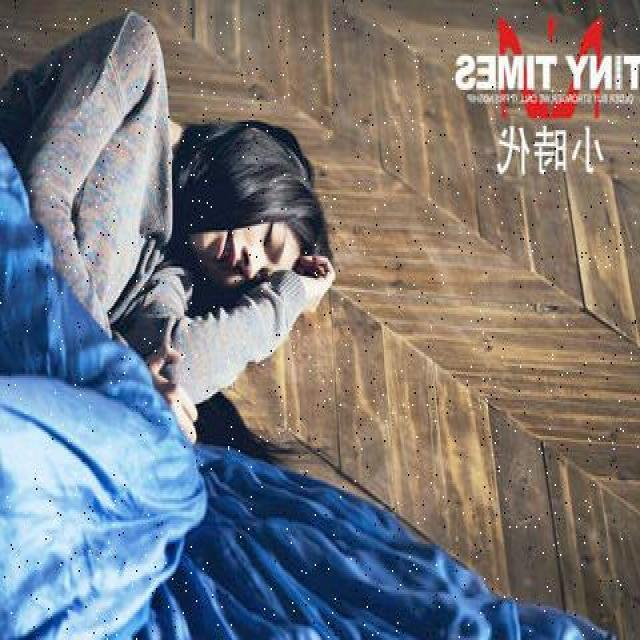fall: (9, 42, 338, 494)
